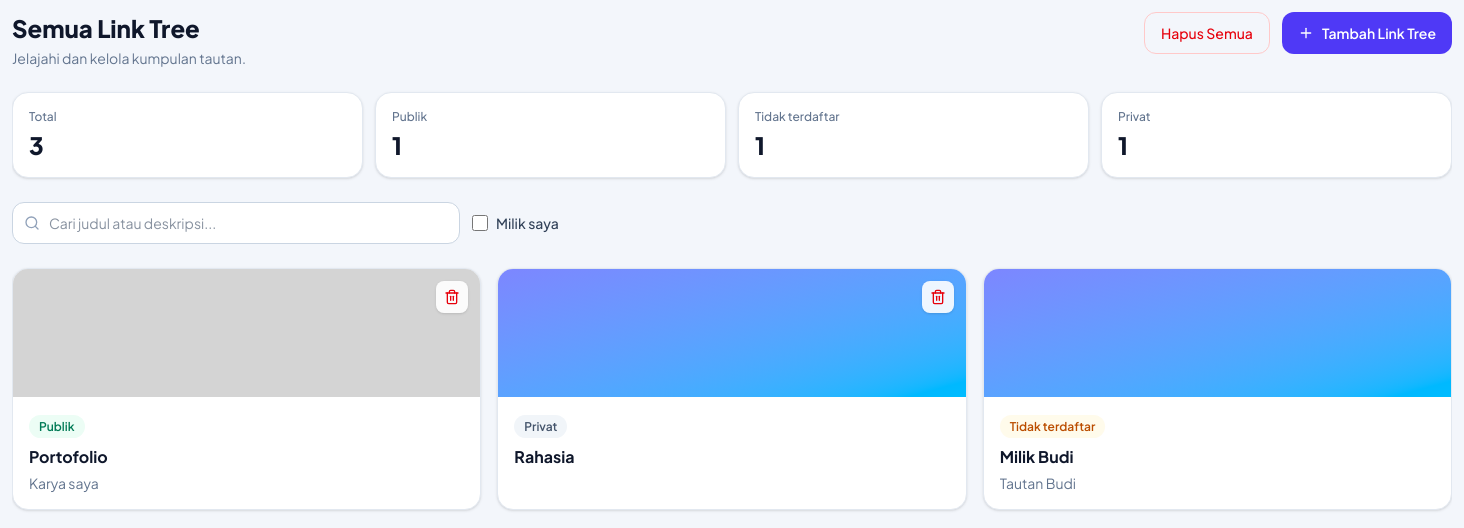
Test: HomePage › menampilkan pesan kosong bila tidak ada yang cocok
The width and height of the screenshot is (1464, 528).
Expected: the heading "Portofolio" is shown, top-left (29, 446), bottom-right (108, 467)
Type "zzz" into the search field named "Cari link tree" at {"x": 236, "y": 223}, box top-left (12, 202), bottom-right (460, 244)
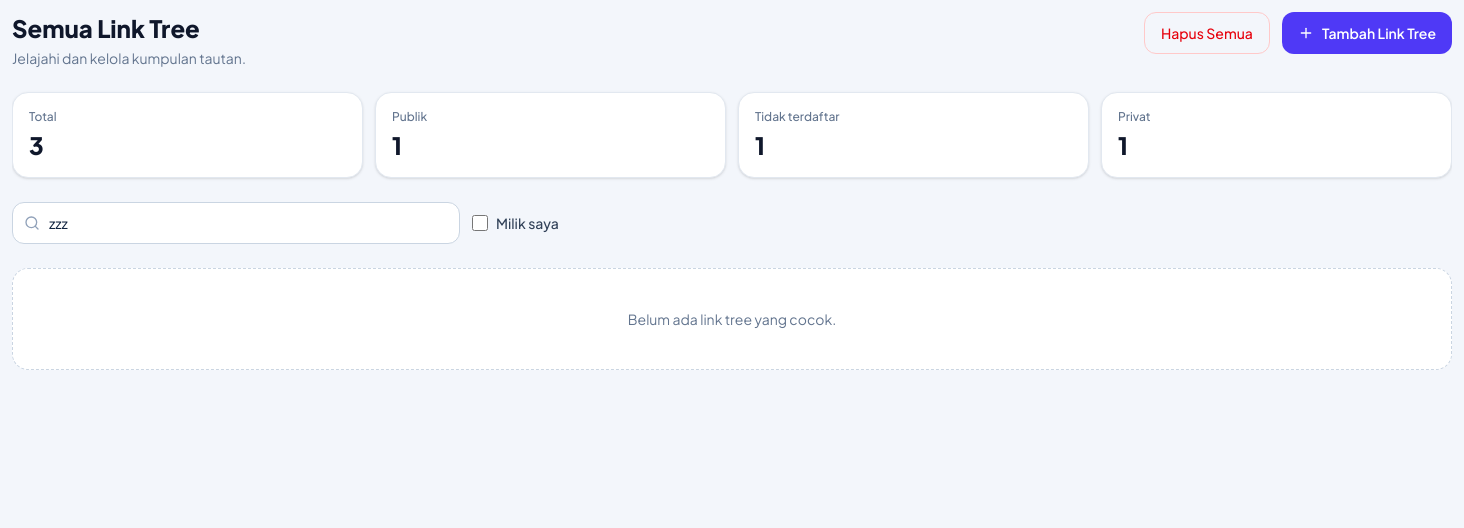
Expected: the text "Belum ada link tree yang cocok." is shown, top-left (12, 268), bottom-right (1452, 370)
